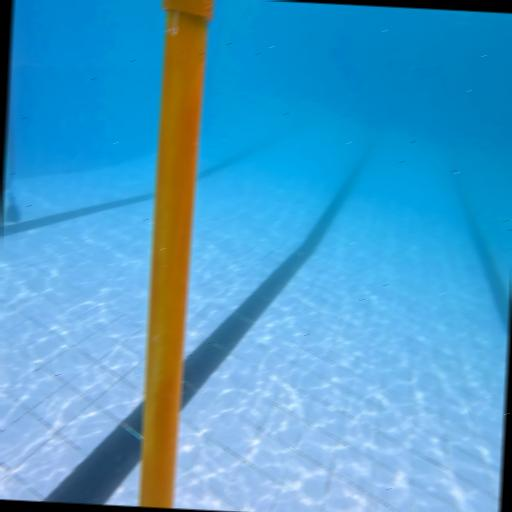pole_gate: (134, 0, 214, 508)
